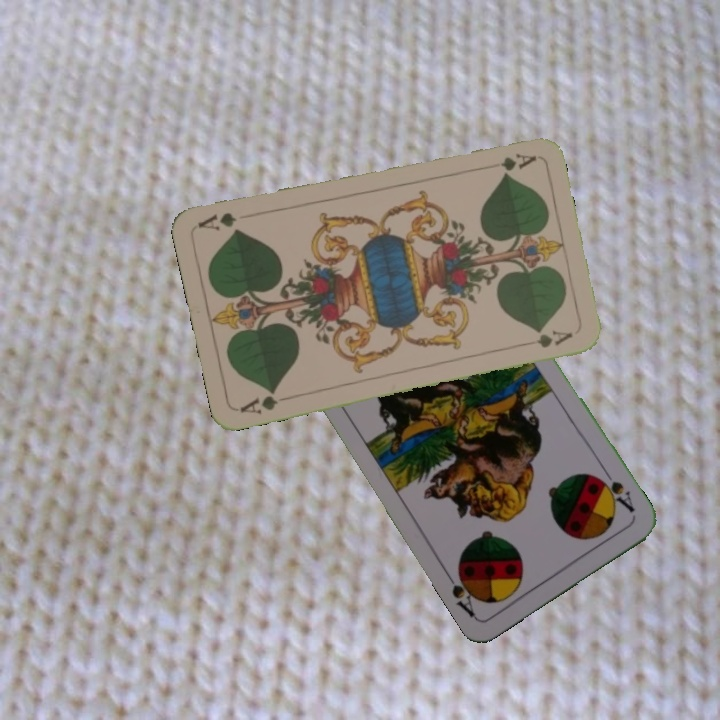GA: (236, 385, 294, 417), (479, 149, 538, 173)
SA: (592, 472, 638, 516)
